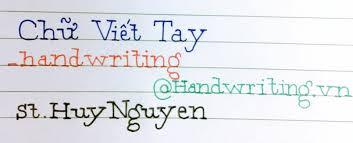text: (18, 17, 208, 52), (152, 76, 353, 109), (15, 99, 207, 133), (7, 46, 182, 80)
